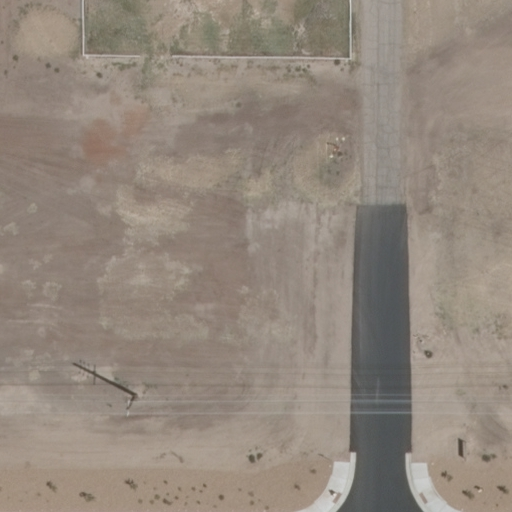DT: (121, 387, 144, 418)
